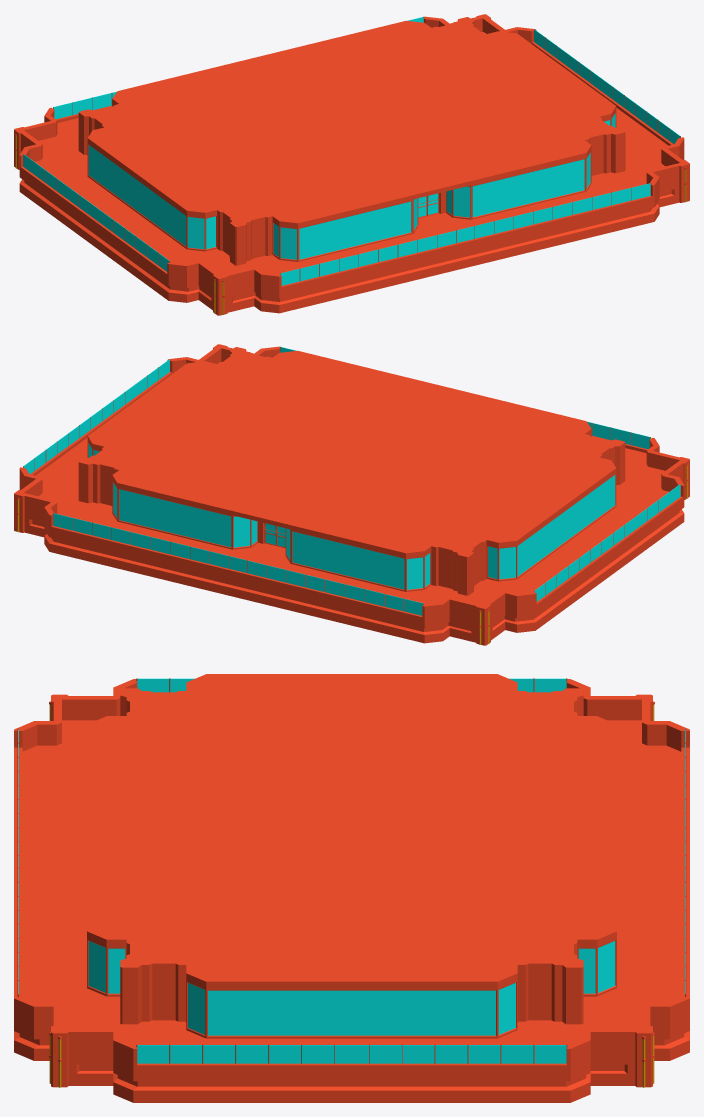
The model's file is SM_Skyscraper_A_Setback_City.fbx.
3 views of the same model, one above another, from view 1: azimuth 30°, elevation 25°; view 2: azimuth 150°, elevation 25°; view 3: azimuth 270°, elevation 25° (orthographic). The views are drawn at different scales.
Visible parts, largest first — view 1: SM_Skyscraper_A_Setback_City; view 2: SM_Skyscraper_A_Setback_City; view 3: SM_Skyscraper_A_Setback_City.
Part boxes in pixels (bbox=[...]): SM_Skyscraper_A_Setback_City: bbox=[14, 14, 689, 315]; SM_Skyscraper_A_Setback_City: bbox=[14, 344, 689, 645]; SM_Skyscraper_A_Setback_City: bbox=[14, 674, 689, 1102].
Bounding box in the file's own units: 44 × 5 × 34.
